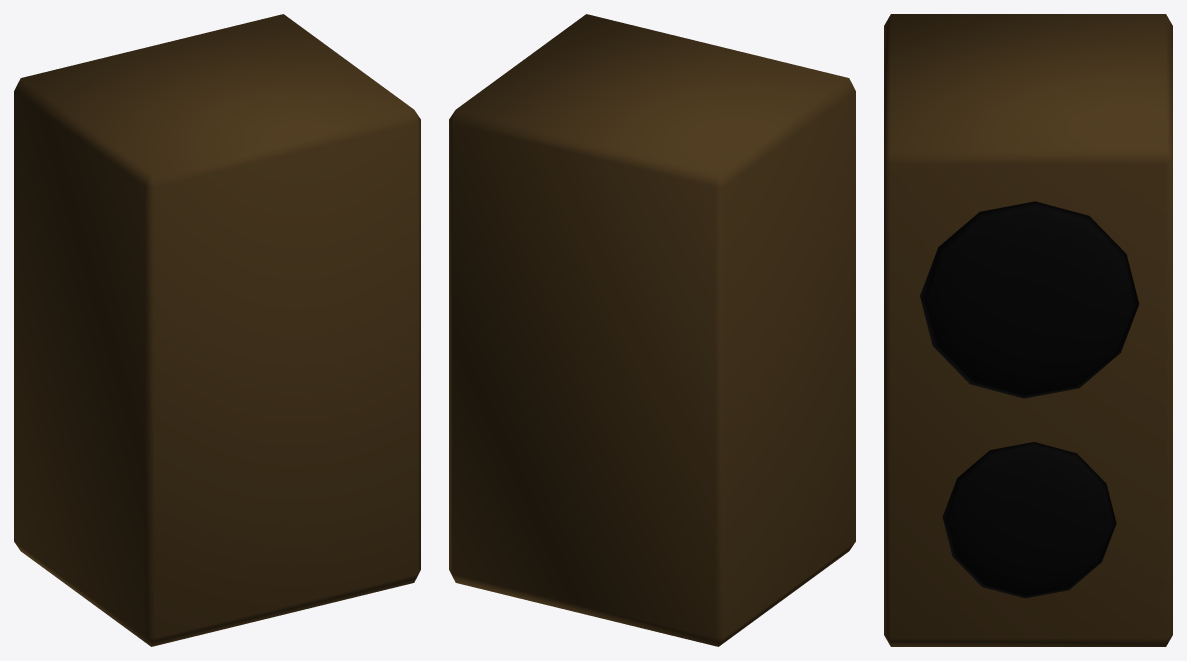
Rendered from Speaker only.fbx.
The picture shows the model from 3 angles, left to right: view 1: azimuth 30°, elevation 25°; view 2: azimuth 150°, elevation 25°; view 3: azimuth 270°, elevation 25°; orthographic projection. The views are drawn at different scales.
Parts seen in each view (by area): view 1: Sphere.001; view 2: Sphere.001; view 3: Sphere.001.
Boxes of the visible parts, box(x1,y1,x2,y2) form: Sphere.001: box(14, 14, 420, 646); Sphere.001: box(449, 14, 855, 646); Sphere.001: box(884, 14, 1172, 646).
Size of the model in its own units: 193 by 289 by 152.
